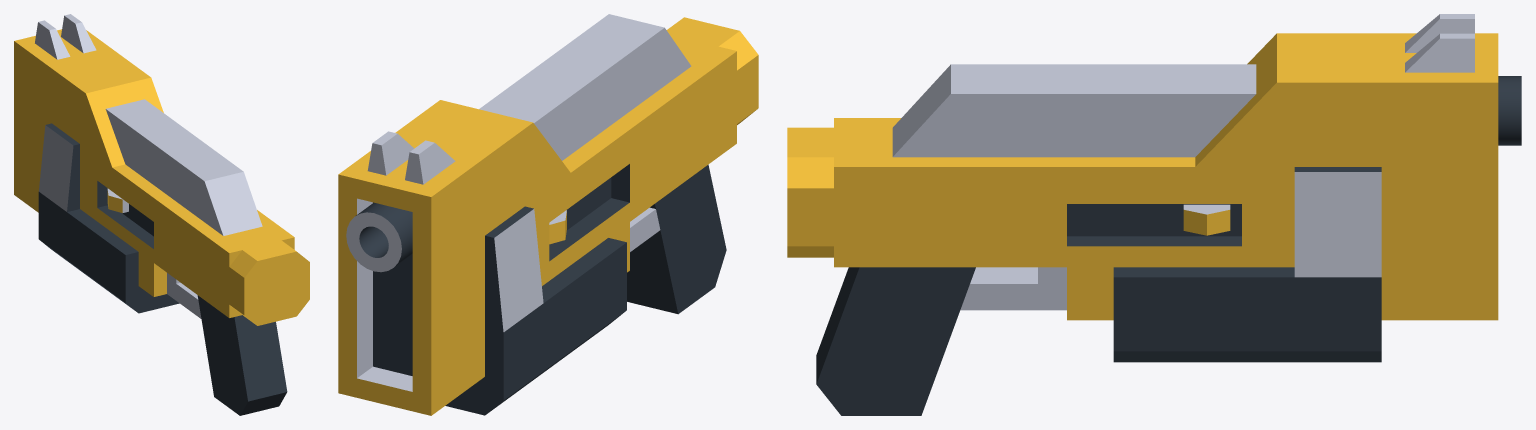
Rendered from blasterM.obj.
3 renders of one model, left to right at view 1: azimuth 30°, elevation 25°; view 2: azimuth 150°, elevation 25°; view 3: azimuth 270°, elevation 25°, orthographic. The views are drawn at different scales.
Visible parts, largest first — view 1: blasterM; view 2: blasterM; view 3: blasterM.
Boxes of the visible parts, left/top/right/bottom form: blasterM: left=14, top=14, right=309, bottom=415; blasterM: left=338, top=14, right=758, bottom=415; blasterM: left=787, top=14, right=1521, bottom=415.
Size of the model in its own units: 0.14 by 0.355 by 0.63.
